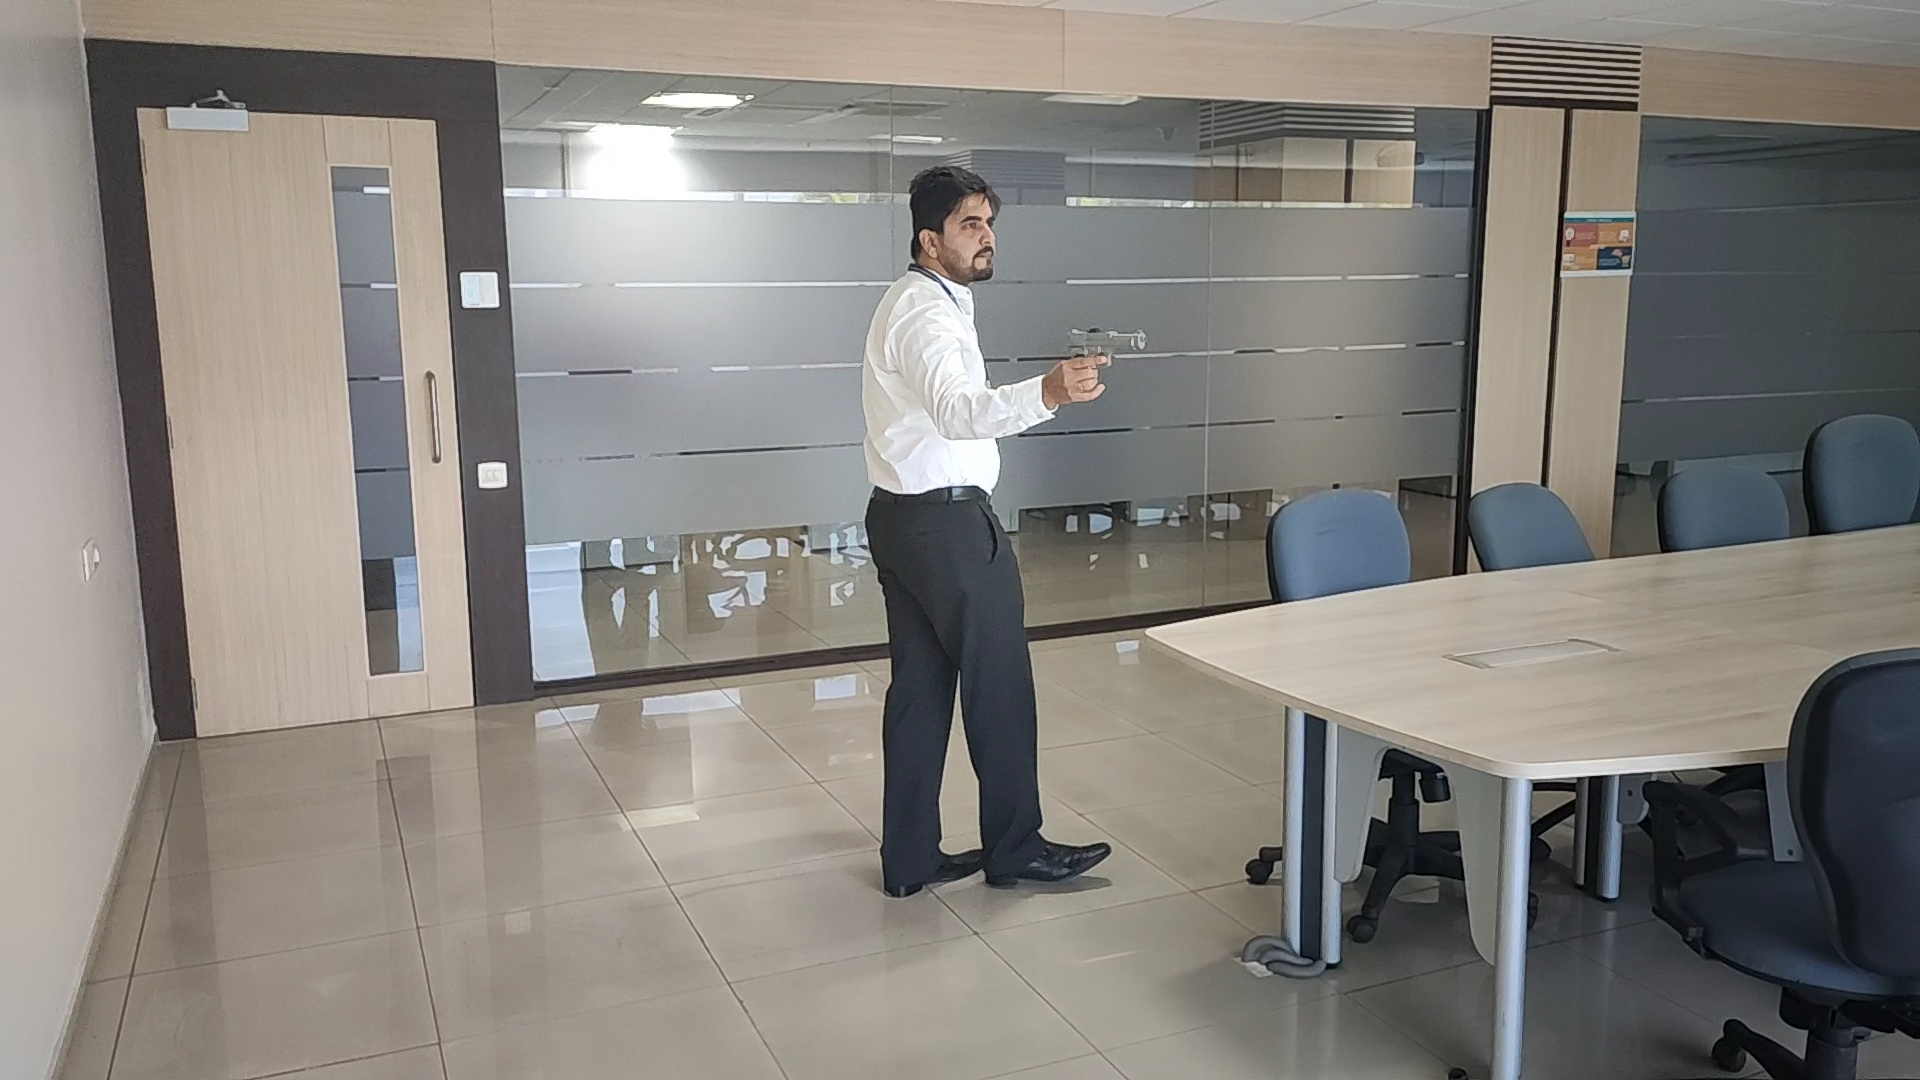gun: (1065, 322, 1149, 369)
